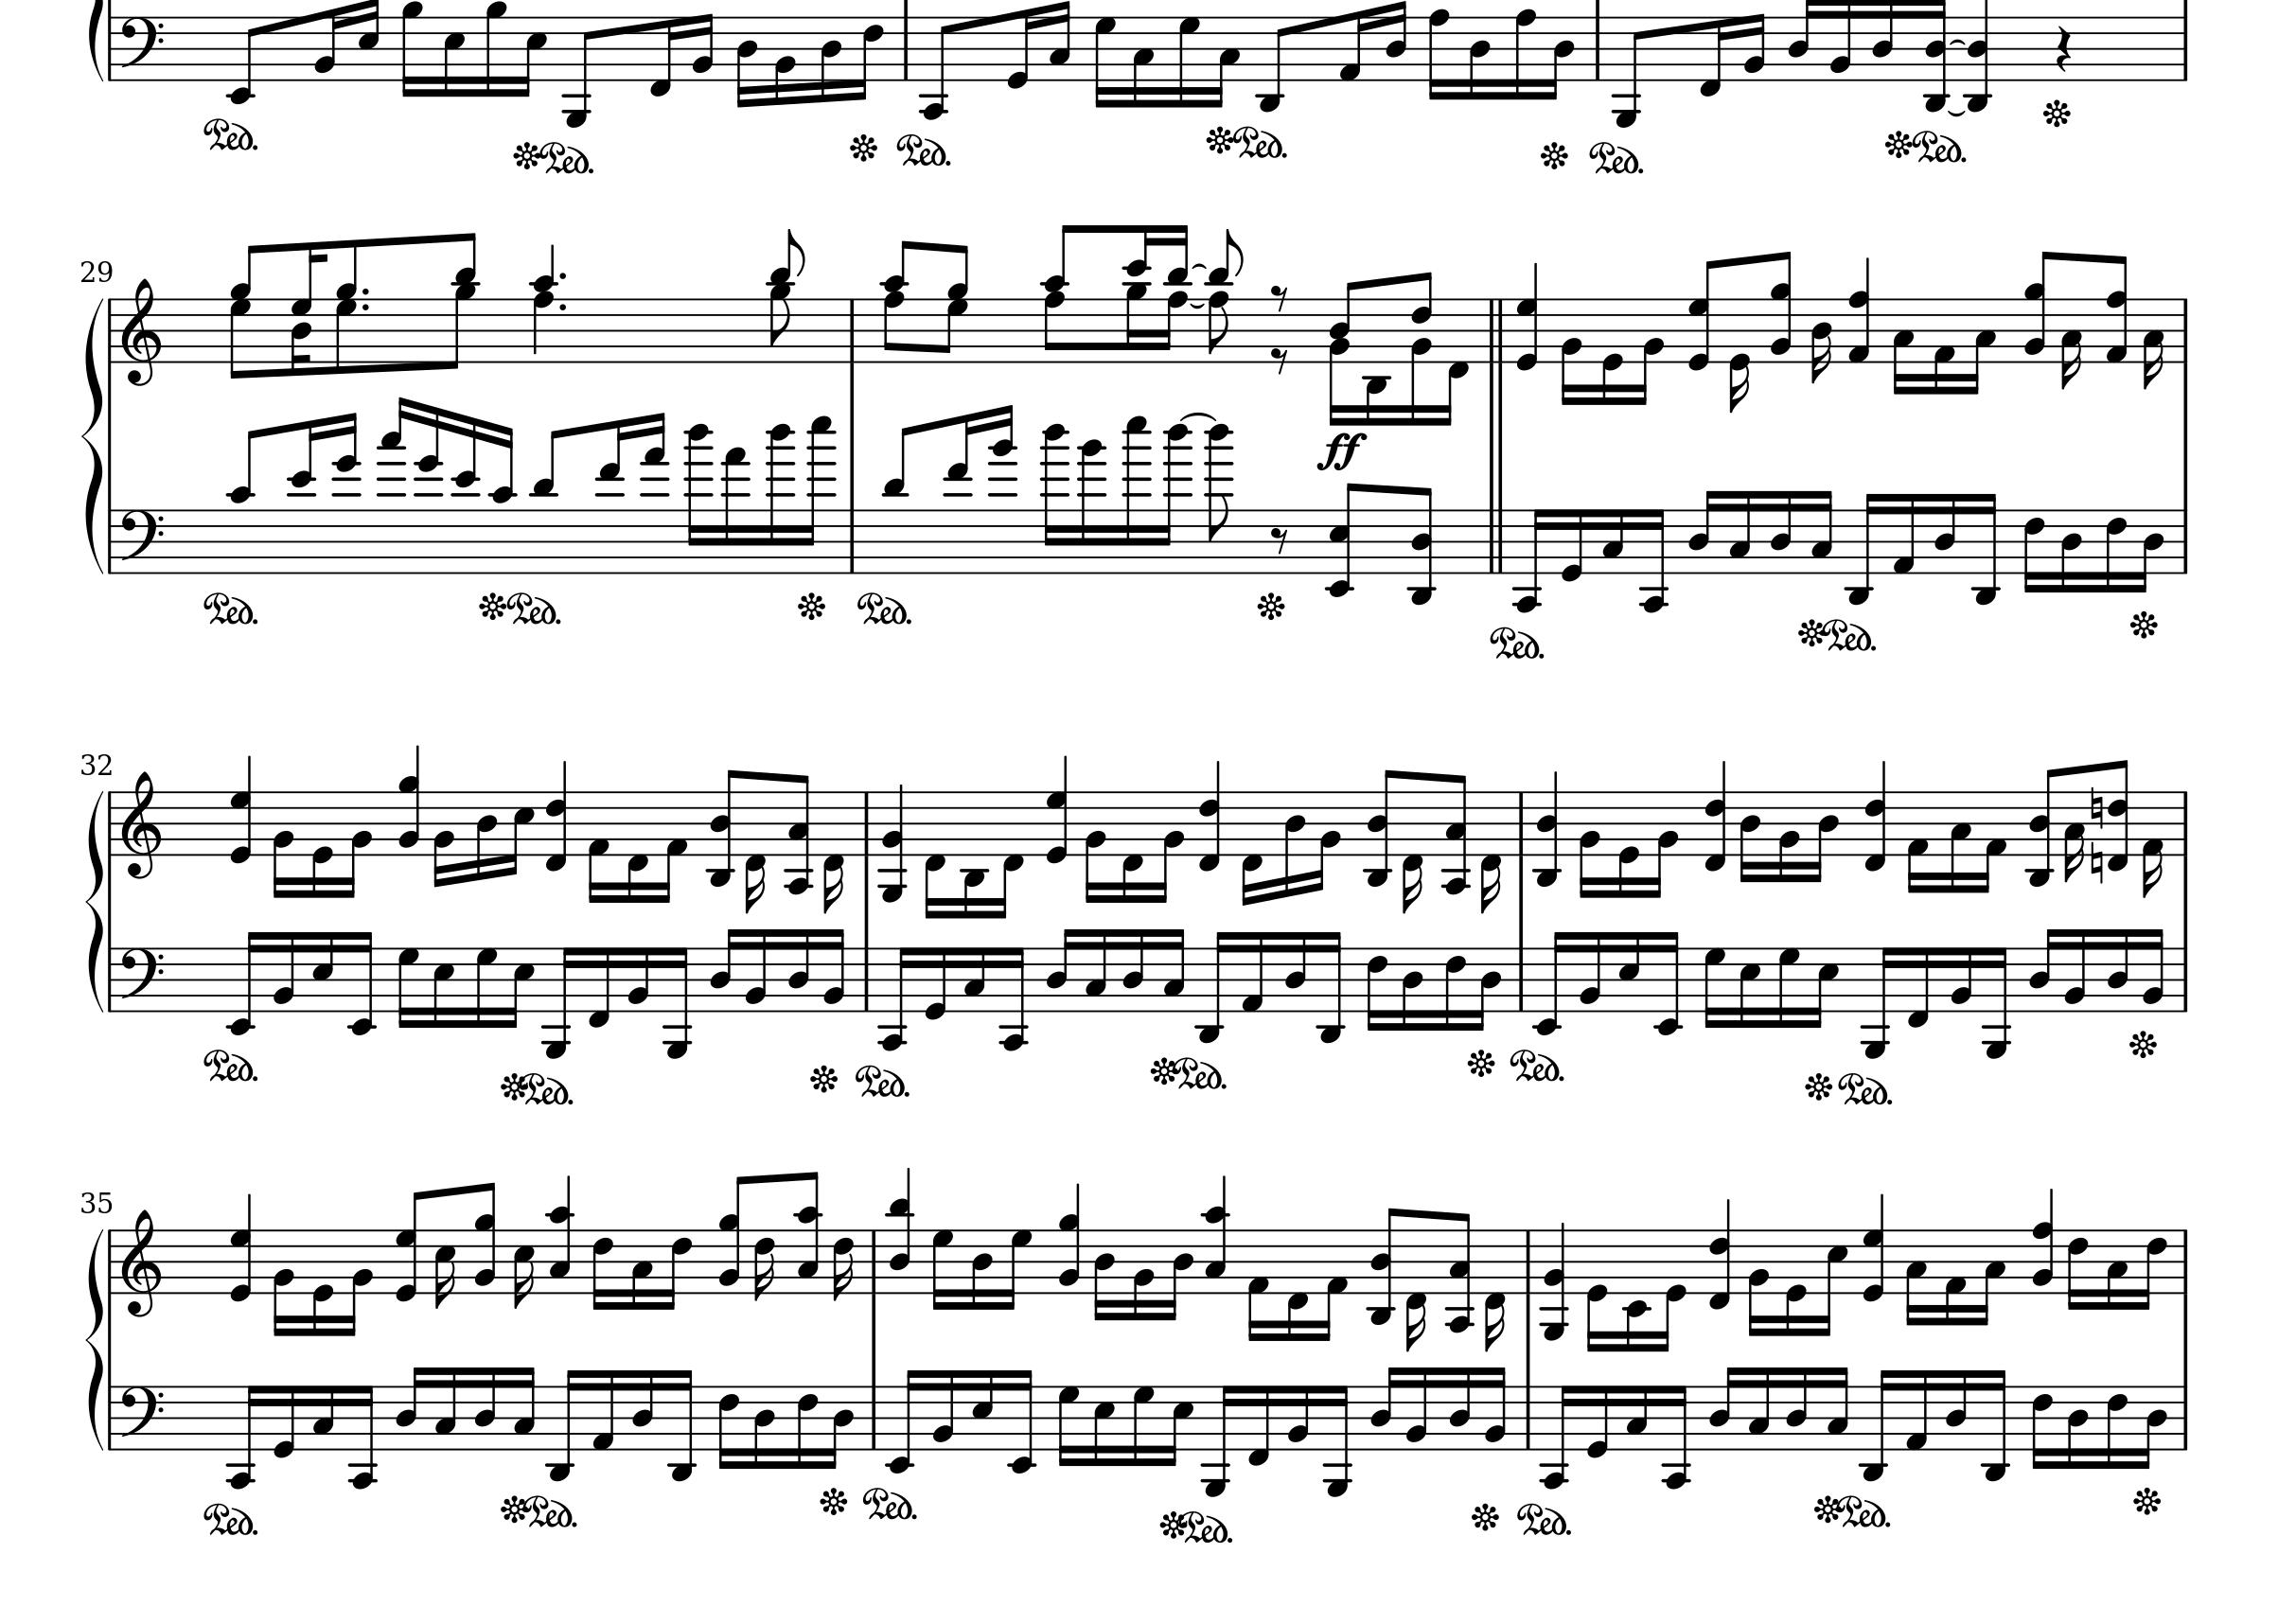16_-1: (1440, 294, 1470, 427), (996, 789, 1024, 917), (741, 784, 768, 916), (1398, 786, 1425, 916), (1404, 1220, 1428, 1352), (922, 787, 947, 916), (1479, 787, 1504, 914), (1483, 1225, 1507, 1352), (822, 789, 847, 914), (1119, 789, 1145, 902), (625, 789, 650, 903), (648, 14, 680, 98), (1699, 14, 1730, 98), (1240, 789, 1263, 905), (1286, 1227, 1309, 1343), (585, 944, 611, 1028), (1247, 1381, 1272, 1468), (1906, 946, 1931, 1028)
16_-2: (227, 928, 262, 1037), (885, 1367, 921, 1473), (1534, 930, 1567, 1035), (1623, 1225, 1650, 1352), (1655, 928, 1681, 1037), (348, 928, 374, 1035), (1008, 1367, 1035, 1473)
16_-3: (1859, 1367, 1895, 1483), (1195, 930, 1230, 1046), (546, 1367, 581, 1483), (1846, 490, 1880, 608), (1363, 297, 1390, 427), (961, 789, 987, 919), (1971, 490, 1999, 606), (1316, 930, 1344, 1042), (668, 1369, 696, 1480), (1982, 1369, 2008, 1480)
16_-4: (225, 1383, 262, 1490), (1541, 1381, 1574, 1490), (1513, 506, 1546, 613), (878, 944, 912, 1051), (998, 944, 1029, 1051), (348, 1381, 378, 1490), (1639, 506, 1669, 613), (1662, 1383, 1692, 1490)
16_-5: (541, 944, 576, 1060), (1860, 944, 1895, 1060), (1202, 1383, 1237, 1497), (662, 944, 692, 1062), (1982, 944, 2011, 1062), (1323, 1383, 1353, 1496)
16_0: (1657, 1227, 1688, 1352), (1585, 1227, 1609, 1353), (1727, 294, 1750, 413), (1599, 297, 1623, 408), (1616, 787, 1641, 898), (309, 789, 334, 898), (311, 1227, 336, 1336), (1783, 1227, 1808, 1336), (1005, 5, 1035, 91), (1558, 506, 1585, 584), (922, 944, 949, 1021), (271, 1383, 297, 1459), (1585, 1383, 1611, 1459)
16_1: (1319, 1227, 1347, 1343), (661, 789, 689, 903), (1980, 789, 2006, 893), (587, 789, 610, 903), (1247, 1225, 1270, 1339), (2141, 791, 2164, 898), (1932, 297, 1957, 395), (1943, 1227, 1967, 1325), (1337, 9, 1368, 83), (1906, 791, 1929, 893), (1903, 1367, 1931, 1450), (1890, 490, 1917, 575), (590, 1367, 617, 1452), (1240, 930, 1265, 1012)
16_10: (490, 424, 515, 575)
16_12: (451, 413, 480, 575), (288, 417, 316, 576)
16_13: (594, 415, 627, 578), (943, 411, 973, 576)
16_14: (413, 402, 443, 575), (332, 411, 358, 573)
16_15: (639, 415, 668, 571), (722, 445, 748, 573)
16_16: (989, 410, 1017, 576), (1077, 439, 1107, 575)
16_17: (378, 395, 408, 575)
16_18: (1158, 422, 1193, 575), (766, 424, 796, 573), (1040, 424, 1070, 573), (685, 424, 711, 573)
16_19: (803, 415, 836, 575), (1123, 415, 1152, 573)
16_2: (1634, 294, 1664, 408), (1154, 789, 1184, 903), (1648, 789, 1678, 900), (343, 789, 371, 900), (344, 1227, 372, 1338), (1312, 789, 1340, 893), (1084, 789, 1108, 905), (1558, 297, 1583, 408), (271, 789, 295, 900), (1578, 789, 1602, 900), (271, 1227, 295, 1338), (1746, 1225, 1769, 1338), (773, 14, 798, 105), (432, 789, 455, 888), (271, 930, 297, 1012), (313, 5, 341, 83), (1131, 1227, 1154, 1322), (822, 926, 847, 1014), (1483, 1364, 1507, 1452), (1778, 789, 1801, 882), (743, 926, 768, 1012), (2062, 926, 2087, 1012), (2141, 926, 2166, 1012), (1405, 1364, 1430, 1450), (1578, 930, 1602, 1012), (931, 1367, 956, 1450), (1829, 2, 1853, 81), (690, 11, 715, 83), (627, 944, 652, 1014), (1950, 944, 1975, 1014), (1743, 11, 1765, 83), (1288, 1383, 1310, 1452)
16_3: (1976, 1227, 2006, 1325), (1210, 16, 1240, 109), (1967, 297, 1996, 395), (1903, 1227, 1927, 1327), (1890, 297, 1915, 395), (1948, 789, 1971, 895), (2141, 297, 2166, 390), (1727, 489, 1753, 575), (432, 1364, 458, 1450), (1746, 1364, 1773, 1450), (1131, 14, 1154, 109), (511, 1364, 536, 1452), (1825, 1364, 1850, 1452), (2059, 297, 2082, 390), (1809, 489, 1834, 575), (1084, 926, 1108, 1012), (629, 1227, 653, 1311), (2105, 1227, 2129, 1309), (1163, 926, 1186, 1014), (1047, 2, 1072, 81), (963, 944, 987, 1012), (311, 1383, 336, 1452), (1625, 1383, 1650, 1452), (1602, 508, 1627, 575)
16_4: (1043, 926, 1077, 1014), (1809, 789, 1839, 884), (1163, 1227, 1193, 1322), (1686, 487, 1718, 575), (708, 926, 740, 1014), (1472, 946, 1504, 1032), (2027, 926, 2059, 1012), (393, 1364, 425, 1450), (1368, 1364, 1400, 1450), (1708, 1364, 1739, 1450), (824, 1383, 854, 1471), (2136, 508, 2166, 594), (1787, 2, 1818, 83), (1282, 789, 1305, 898), (1546, 14, 1574, 102), (2140, 1383, 2168, 1469), (734, 16, 759, 109), (473, 789, 497, 881), (817, 14, 841, 104), (1093, 1227, 1116, 1322), (1809, 297, 1834, 385), (1121, 926, 1145, 1014), (1739, 789, 1762, 882), (1769, 489, 1794, 575), (2059, 508, 2083, 594), (787, 926, 812, 1012), (1400, 946, 1425, 1032), (2106, 926, 2131, 1012), (473, 1364, 497, 1450), (752, 1383, 776, 1469), (1448, 1364, 1472, 1450), (1785, 1364, 1809, 1450), (1932, 490, 1957, 575), (1284, 930, 1309, 1012), (631, 1367, 655, 1450), (1945, 1367, 1969, 1450), (1469, 14, 1491, 102), (1871, 2, 1895, 83), (2066, 1383, 2089, 1469), (970, 1227, 993, 1311), (1384, 2, 1407, 81)
16_4_7: (290, 241, 330, 378)
16_5: (1818, 1225, 1848, 1336), (516, 16, 548, 100), (1808, 946, 1839, 1030), (1163, 1383, 1195, 1468), (504, 789, 534, 877), (504, 946, 534, 1030), (430, 946, 455, 1030), (1737, 946, 1762, 1030), (1091, 1383, 1116, 1468), (311, 930, 336, 1012), (1618, 930, 1643, 1012), (432, 1227, 457, 1309), (970, 1367, 994, 1450), (443, 14, 466, 98), (511, 1225, 534, 1309), (357, 2, 379, 83)
16_6: (852, 14, 884, 102), (661, 1227, 692, 1311), (2136, 1227, 2168, 1309), (2103, 506, 2127, 594), (2105, 1381, 2129, 1469), (2022, 508, 2047, 594), (717, 1383, 741, 1469), (1442, 946, 1467, 1030), (590, 1227, 615, 1311), (1365, 944, 1388, 1032), (796, 1383, 819, 1469), (2031, 1383, 2054, 1469), (2066, 1227, 2089, 1311), (752, 1227, 776, 1302), (831, 1227, 854, 1301)
16_7: (1000, 1227, 1033, 1311), (1093, 14, 1117, 111), (1177, 14, 1202, 111), (473, 944, 497, 1030), (1702, 944, 1727, 1030), (1776, 944, 1801, 1030), (1056, 1383, 1080, 1468), (1130, 1383, 1154, 1468), (397, 944, 420, 1030), (931, 1227, 954, 1311)
16_8: (1426, 7, 1451, 102), (1513, 7, 1537, 102)
16_8_11: (1161, 225, 1189, 362)
16_9: (483, 2, 508, 100), (401, 2, 423, 100)
16_9_12: (1123, 223, 1156, 364)
2: (77, 258, 95, 283), (95, 752, 112, 777)
3: (79, 1188, 97, 1214), (79, 750, 95, 777)
4_-1_6: (1702, 759, 1730, 874), (1862, 761, 1890, 874), (1198, 761, 1224, 874), (1706, 1199, 1732, 1311), (545, 761, 571, 870)
4_-3_6: (1532, 770, 1565, 888)
4_-5_2: (877, 784, 908, 905), (1541, 1222, 1570, 1339)
4_0_7: (227, 1192, 255, 1302), (1860, 1192, 1888, 1302), (227, 754, 253, 866), (1043, 756, 1070, 865), (1516, 262, 1541, 374)
4_1_8: (1848, 257, 1874, 364)
4_2_8: (2032, 1186, 2057, 1297)
4_2_9: (1058, 1183, 1084, 1295), (397, 745, 422, 858)
4_3_10: (1198, 1172, 1231, 1295), (546, 1176, 578, 1295)
4_4_11: (885, 1167, 917, 1295)
4_8_10: (529, 243, 557, 364)
5: (97, 1188, 114, 1214)
8_-1_6: (2106, 758, 2131, 872)
8_-2: (225, 16, 260, 105)
8_-2_5: (1325, 480, 1361, 599)
8_-3: (1256, 14, 1288, 114)
8_-3_4: (704, 768, 743, 888), (2024, 768, 2061, 888), (1361, 768, 1397, 888), (1367, 1207, 1402, 1323), (1407, 483, 1437, 606)
8_-4: (919, 9, 950, 120)
8_-4_3: (1442, 1211, 1477, 1332), (785, 772, 815, 896), (1442, 773, 1472, 895)
8_-5: (1611, 9, 1644, 128), (562, 14, 596, 130)
8_0_7: (393, 1190, 429, 1302), (1686, 258, 1720, 373)
8_10: (227, 425, 262, 578)
8_11: (880, 422, 915, 578), (529, 425, 564, 576)
8_18: (1203, 424, 1235, 576)
8_1_9: (2106, 253, 2129, 366)
8_2_9: (717, 1174, 750, 1297), (2024, 251, 2055, 366), (1769, 248, 1795, 367), (473, 1183, 497, 1297)
8_3_10: (792, 1171, 824, 1295)
8_7_9: (228, 244, 260, 380), (940, 243, 970, 366), (334, 239, 360, 374)
8_8_10: (1042, 225, 1073, 366), (880, 237, 913, 366)
8_8_11: (1207, 225, 1249, 366)
8_9_11: (764, 228, 805, 364), (444, 230, 480, 373)
9: (97, 257, 112, 283)
Brace: (81, 292, 105, 576), (84, 1223, 105, 1457), (84, 787, 105, 1016)
Double_barline: (1483, 510, 1509, 573), (1484, 297, 1507, 362)
Fclef: (118, 946, 165, 1014), (118, 1383, 165, 1452), (118, 14, 163, 83), (118, 506, 163, 575)
Gclef: (119, 1207, 163, 1318), (119, 768, 162, 881), (119, 276, 162, 387)
Natural: (2087, 784, 2105, 830), (2089, 838, 2105, 884)
Rests4: (2054, 23, 2075, 74)
Rests8: (1268, 281, 1291, 313), (1268, 346, 1291, 376), (1268, 526, 1291, 555)
Single_barline: (845, 299, 863, 362), (843, 510, 861, 573), (864, 1385, 882, 1448), (864, 1229, 882, 1290), (898, 16, 913, 81), (2177, 16, 2192, 81), (2177, 297, 2192, 362), (2177, 791, 2192, 856), (1590, 16, 1606, 79), (2177, 510, 2192, 573), (859, 791, 875, 854), (1513, 791, 1528, 854), (1513, 947, 1528, 1011), (2177, 947, 2192, 1011), (1520, 1229, 1535, 1292), (1520, 1385, 1535, 1448), (2177, 1385, 2192, 1448), (2178, 1229, 2192, 1294), (104, 1229, 118, 1294), (104, 299, 118, 362), (104, 510, 118, 573), (104, 791, 118, 854), (859, 947, 873, 1011), (105, 946, 118, 1011), (105, 16, 118, 79), (105, 1385, 118, 1448)
Slur: (1180, 410, 1217, 424), (1188, 299, 1207, 309), (1189, 262, 1207, 272), (1946, 109, 1967, 116)
dot: (360, 285, 372, 299), (360, 301, 372, 313), (557, 301, 569, 313), (557, 271, 567, 281)
ff: (1316, 429, 1367, 473)
